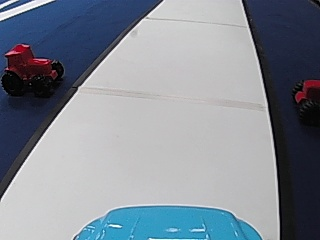tractor: (0, 41, 65, 97), (291, 77, 320, 125)
